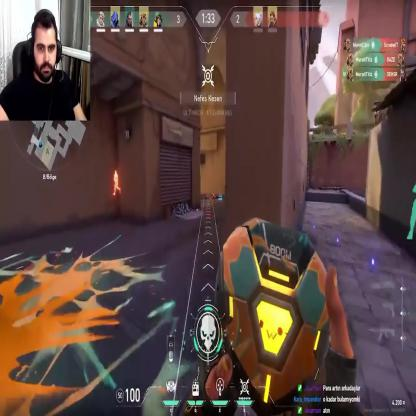enemy: (112, 169, 120, 196)
enemy_head: (115, 170, 116, 175)
